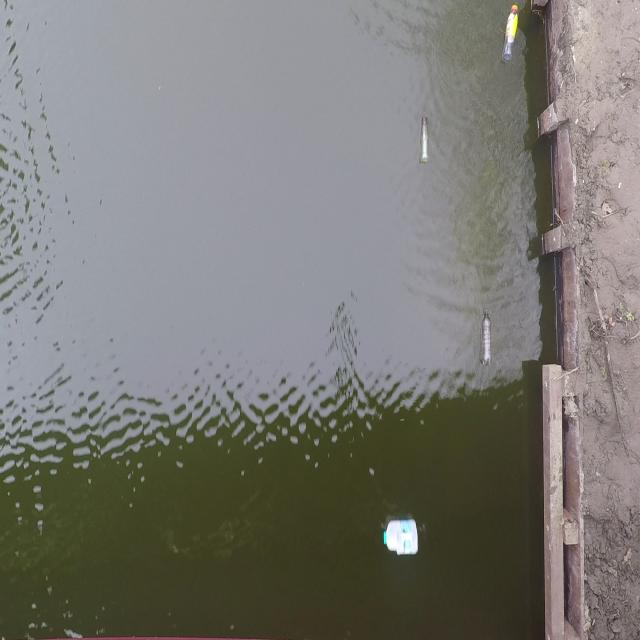Bouteille plastique: (377, 512, 422, 565), (498, 0, 522, 66), (479, 298, 500, 372), (414, 108, 430, 169)
